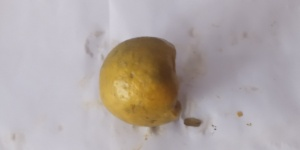BAD: (102, 35, 188, 131)
